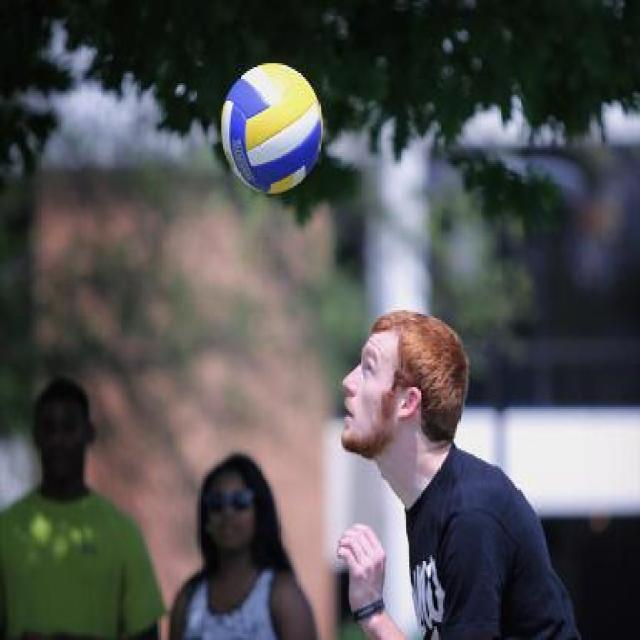volleyball: (222, 63, 323, 195)
